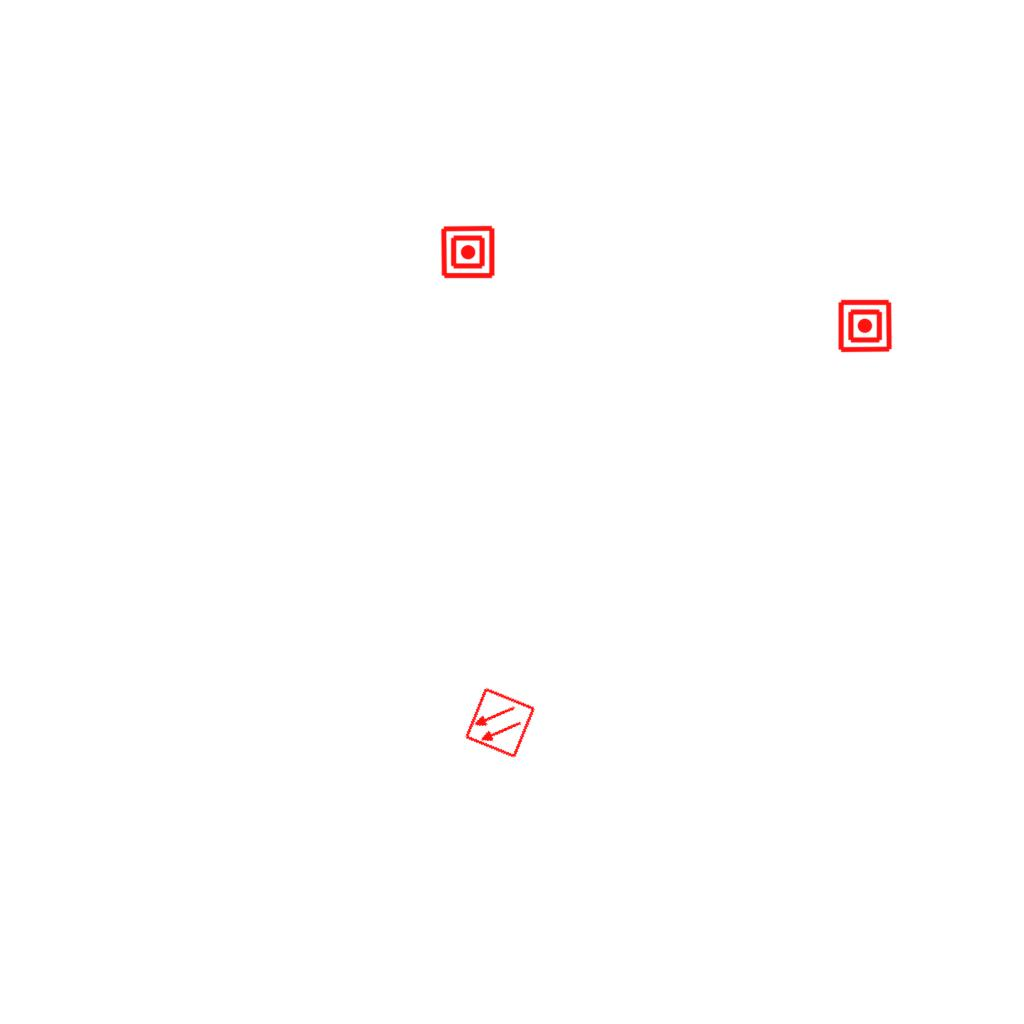NAM-Nichtautomatischer_Melder: (837, 298, 893, 354), (440, 224, 496, 280)
RMO_Rauchmelder_optischer: (463, 686, 537, 760)
